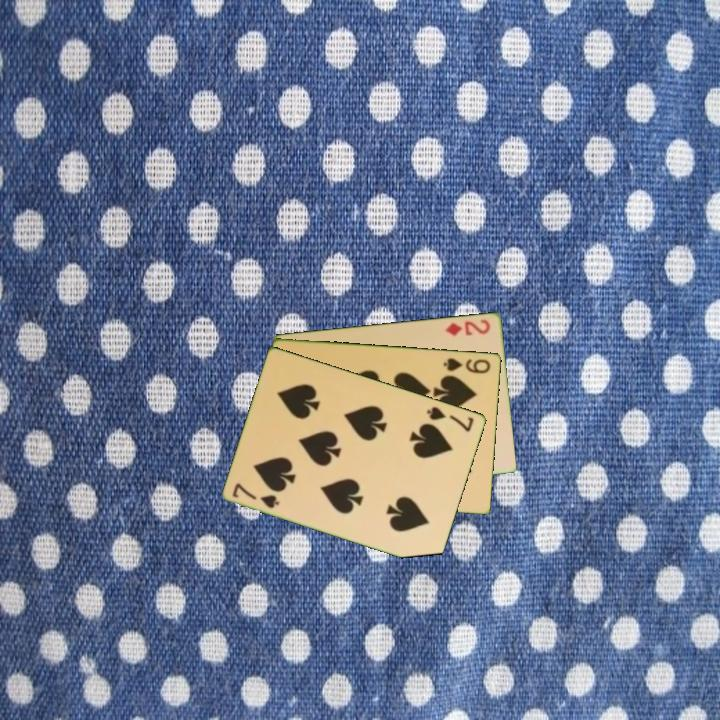2d: (442, 316, 493, 338)
7s: (423, 402, 477, 434), (229, 479, 282, 511)
9s: (440, 354, 493, 376)
